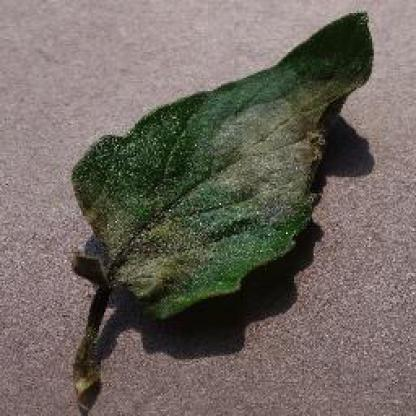bad leaf: (28, 3, 385, 410)
